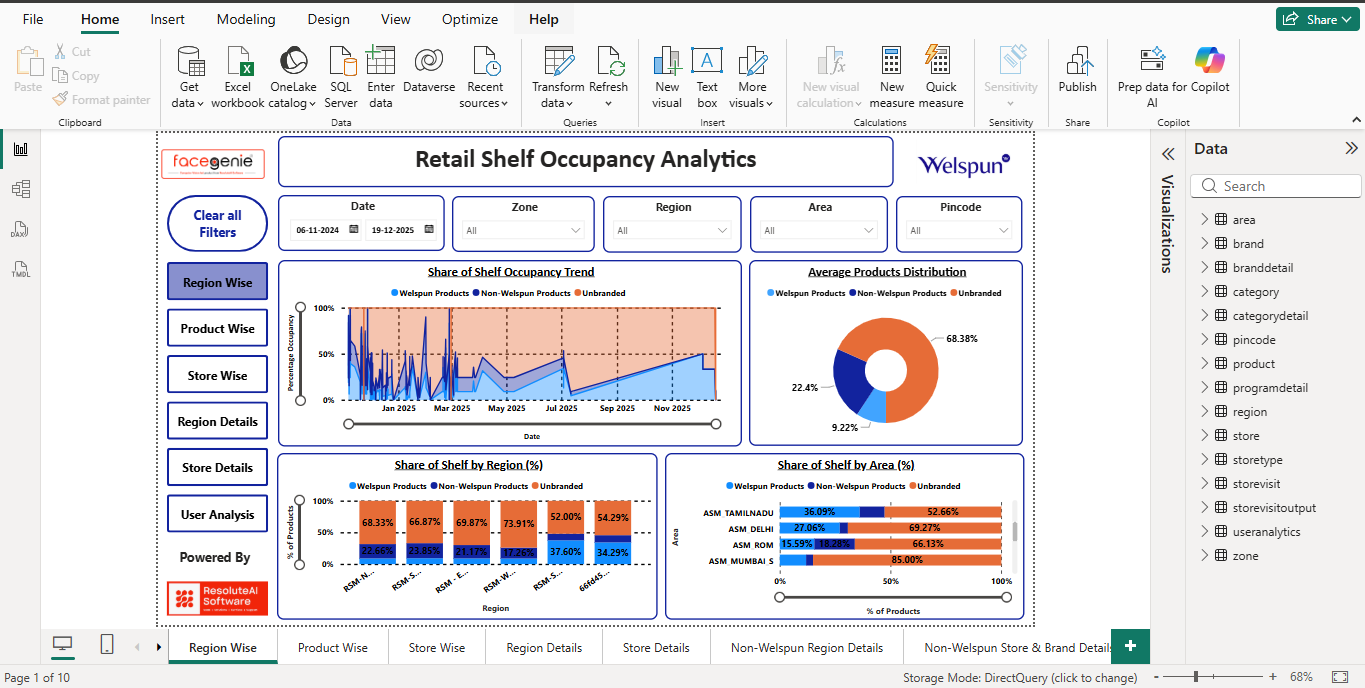

This screenshot's page, from the dashboard's own definition file:
{"tool":"powerbi","page":{"name":"Region Wise","canvas":[1280,720],"ordinal":0},"visuals":[{"type":"textbox","box":[175.4,5,900.6,74.6],"z":0},{"type":"image","box":[0,651.2,174.1,60],"z":1000},{"type":"image","box":[1091.4,4.3,174.3,74.3],"z":2000},{"type":"actionButton","box":[12.4,90.8,148,83.3],"z":3000},{"type":"image","box":[0,0,161.4,91.4],"z":4000},{"type":"slicer","title":"Region","fields":{"Values":["region.name"]},"box":[650.6,92.1,202.8,83.3],"z":5000},{"type":"slicer","title":"Area","fields":{"Values":["area.name"]},"box":[865.8,92.1,201.5,83.3],"z":6000},{"type":"hundredPercentStackedAreaChart","title":"Share of Shelf Occupancy Trend","fields":{"Category":["storevisit.created_at"],"Y":["storevisit.Welspun Products","storevisit.Non-Welspun Products","Sum(storevisitoutput.unbranded_count)"]},"box":[175.8,186,678.5,272.8],"z":7000},{"type":"hundredPercentStackedBarChart","title":"Share of Shelf by Area (%)","fields":{"Category":["area.name"],"Y":["storevisit.Welspun Products","storevisit.Non-Welspun Products","Sum(storevisitoutput.unbranded_count)"]},"box":[741.4,467.7,526.2,243.8],"z":8000},{"type":"hundredPercentStackedColumnChart","title":"Share of Shelf by Region (%)","fields":{"Category":["region.name"],"Y":["storevisit.Welspun Products","storevisit.Non-Welspun Products","Sum(storevisitoutput.unbranded_count)"]},"box":[174.8,468,557.4,243.6],"z":9000},{"type":"slicer","title":"Date","fields":{"Values":["storevisit.created_at"]},"box":[175.6,90.7,244.4,82],"z":10000},{"type":"donutChart","title":"Average Products Distribution","fields":{"Y":["storevisit.Welspun Products","storevisit.Non-Welspun Products","Sum(storevisitoutput.unbranded_count)"]},"box":[864.9,186.3,400.8,272.1],"z":11000},{"type":"pageNavigator","box":[12.9,188.6,148.6,401.4],"z":12000},{"type":"slicer","title":"Pincode","fields":{"Values":["pincode.pincode"]},"box":[1079.8,92.1,185.3,83.3],"z":13000},{"type":"slicer","title":"Zone","fields":{"Values":["zone.name"]},"box":[430.4,92.1,209,82.1],"z":14000},{"type":"textbox","box":[26.3,602.9,124.4,48.3],"z":15000}]}

Visuals, with their boxes on the page's 1280x720 design canvas (x1, y1, x2, y2). These are canvas units, not pixel positions in the 1365x688 screenshot, which may show the page scaled, cropped or inside an application window:
textbox: [175,5,1076,80]
image: [0,651,174,711]
image: [1091,4,1266,79]
actionButton: [12,91,160,174]
image: [0,0,161,91]
"Region" slicer: [651,92,853,175]
"Area" slicer: [866,92,1067,175]
"Share of Shelf Occupancy Trend" hundredPercentStackedAreaChart: [176,186,854,459]
"Share of Shelf by Area (%)" hundredPercentStackedBarChart: [741,468,1268,712]
"Share of Shelf by Region (%)" hundredPercentStackedColumnChart: [175,468,732,712]
"Date" slicer: [176,91,420,173]
"Average Products Distribution" donutChart: [865,186,1266,458]
pageNavigator: [13,189,162,590]
"Pincode" slicer: [1080,92,1265,175]
"Zone" slicer: [430,92,639,174]
textbox: [26,603,151,651]
